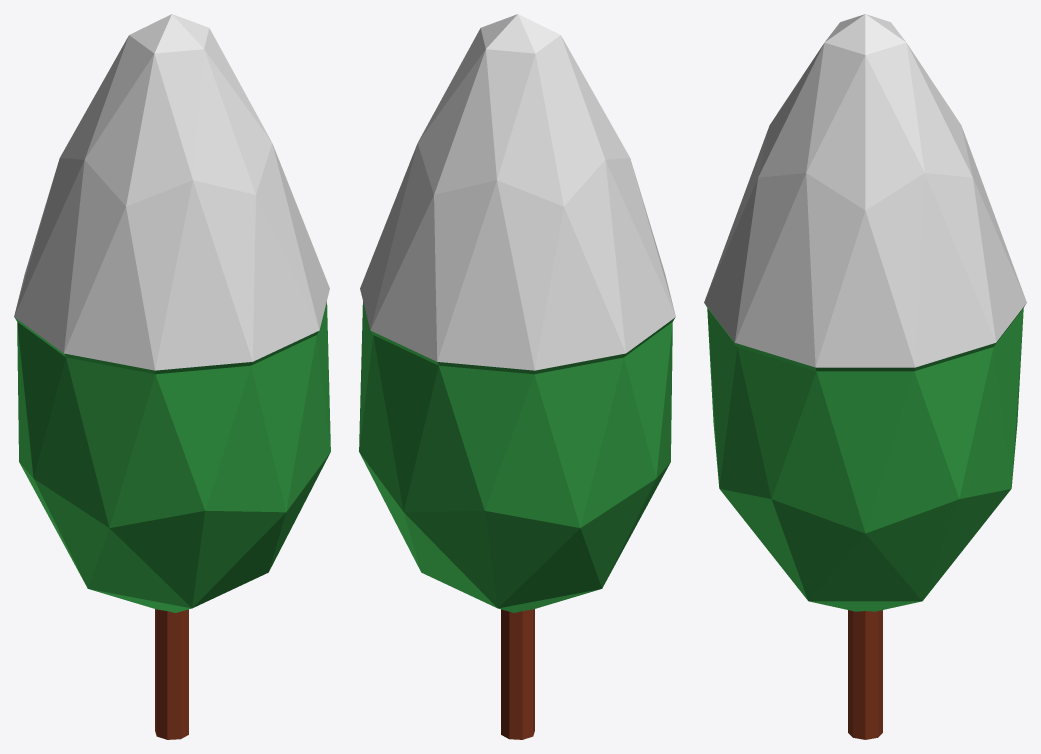
File: tree.015.fbx
The picture shows the model from 3 angles, left to right: view 1: azimuth 30°, elevation 25°; view 2: azimuth 150°, elevation 25°; view 3: azimuth 270°, elevation 25°; orthographic projection.
Visible parts, largest first — view 1: Tree.015; view 2: Tree.015; view 3: Tree.015.
Part boxes in pixels (x1=…): Tree.015: x1=14, y1=14, x2=330, y2=739; Tree.015: x1=359, y1=14, x2=675, y2=739; Tree.015: x1=704, y1=14, x2=1026, y2=739.
Size of the model in its own units: 356 by 900 by 367.
